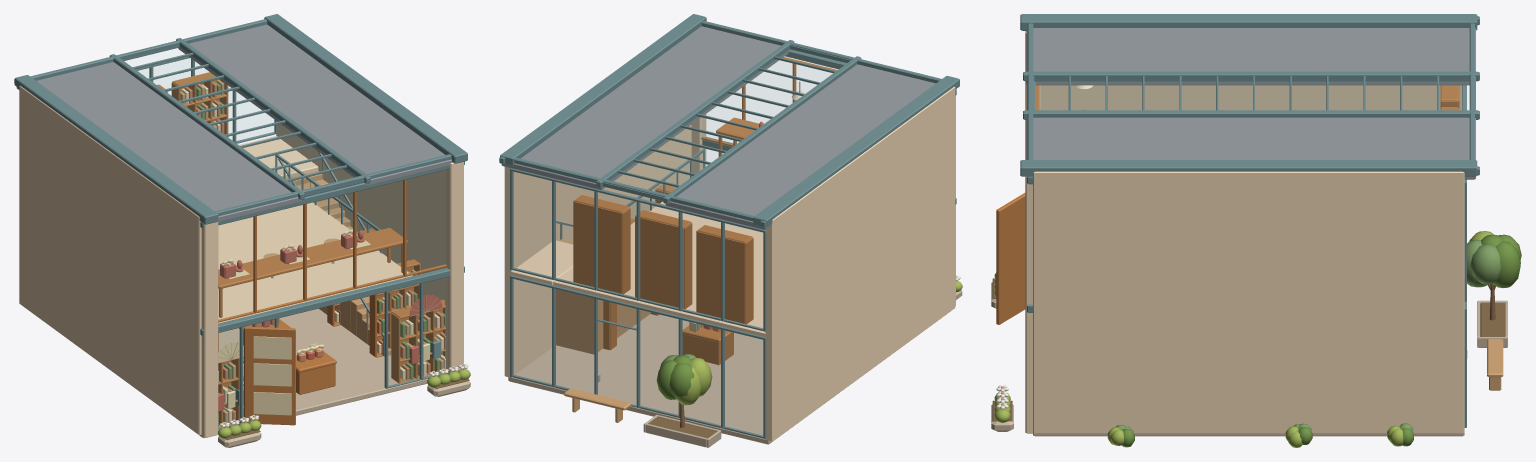
File: 18-B-cacded19452b.glb
3 views of the same model, side by side, from view 1: azimuth 30°, elevation 25°; view 2: azimuth 150°, elevation 25°; view 3: azimuth 270°, elevation 25° (orthographic). The views are drawn at different scales.
Parts seen in each view (by area): view 1: A 两侧实墙, R 灰色平屋面, S 二层工作间楼板, A 入口厚柱, R 宽边女儿墙, S 首层地面, I 分类小商品, D 青灰楼层边框, R 天窗及屋缘竖边, I 工作桌, I 格柜竖板, R 屋面端边 (+16 smaller); view 2: A 两侧实墙, R 灰色平屋面, S 首层地面, I 货架背板, A 后院玻璃面, R 宽边女儿墙, S 二层工作间楼板, R 天窗及屋缘竖边, S 楼梯踏步, R 屋面端边, I 格柜竖板, R 天窗横梁 (+10 smaller); view 3: A 两侧实墙, R 灰色平屋面, R 宽边女儿墙, R 天窗及屋缘竖边, D 可转动主题展示门, L 乔木 · 枝干与树冠, A 入口厚柱, R 屋面端边, L 地被与灌丛, L 花池, R 天窗横梁, S 首层地面 (+2 smaller).
Boxes of the visible parts, x1,y1,x2,y2 form: A 两侧实墙: (19,85,444,435); R 灰色平屋面: (16,24,452,221); S 二层工作间楼板: (218,202,412,323); A 入口厚柱: (201,162,463,437); R 宽边女儿墙: (14,14,467,224); S 首层地面: (199,308,437,437); I 分类小商品: (180,80,445,426); D 青灰楼层边框: (200,161,464,336); R 天窗及屋缘竖边: (14,38,370,199); I 工作桌: (218,228,407,394); I 格柜竖板: (166,79,444,424); R 屋面端边: (30,19,451,216); A 两侧实墙: (504,86,955,441); R 灰色平屋面: (501,26,935,229); S 首层地面: (508,314,772,444); I 货架背板: (574,189,745,349); A 后院玻璃面: (510,168,766,438); R 宽边女儿墙: (500,14,959,227); S 二层工作间楼板: (553,201,767,337); R 天窗及屋缘竖边: (499,40,861,227); S 楼梯踏步: (556,239,650,354); R 屋面端边: (514,20,941,221); I 格柜竖板: (573,188,753,349); R 天窗横梁: (602,45,850,198); A 两侧实墙: (1033,85,1464,433); R 灰色平屋面: (1026,28,1475,179); R 宽边女儿墙: (1020,14,1477,176); R 天窗及屋缘竖边: (1023,16,1479,175); D 可转动主题展示门: (996,193,1025,324); L 乔木 · 枝干与树冠: (1467,231,1521,320); A 入口厚柱: (1025,31,1040,433); R 屋面端边: (1027,23,1474,159); L 地被与灌丛: (1107,423,1413,447); L 花池: (1477,300,1507,347); R 天窗横梁: (1033,76,1475,110); S 首层地面: (1033,433,1464,436).
Size of the model in its own units: 15.38 by 11.78 by 20.9.
